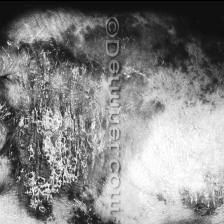Unclassified: (16, 126, 64, 216)
